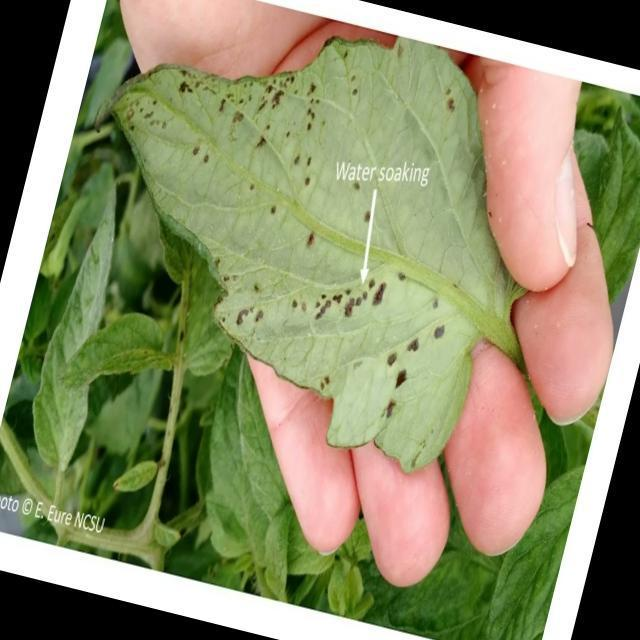Bacterial Spot: (215, 122, 494, 402), (137, 62, 346, 208)
Healthy Leaf: (16, 178, 142, 478), (487, 451, 585, 640), (54, 285, 182, 419)
